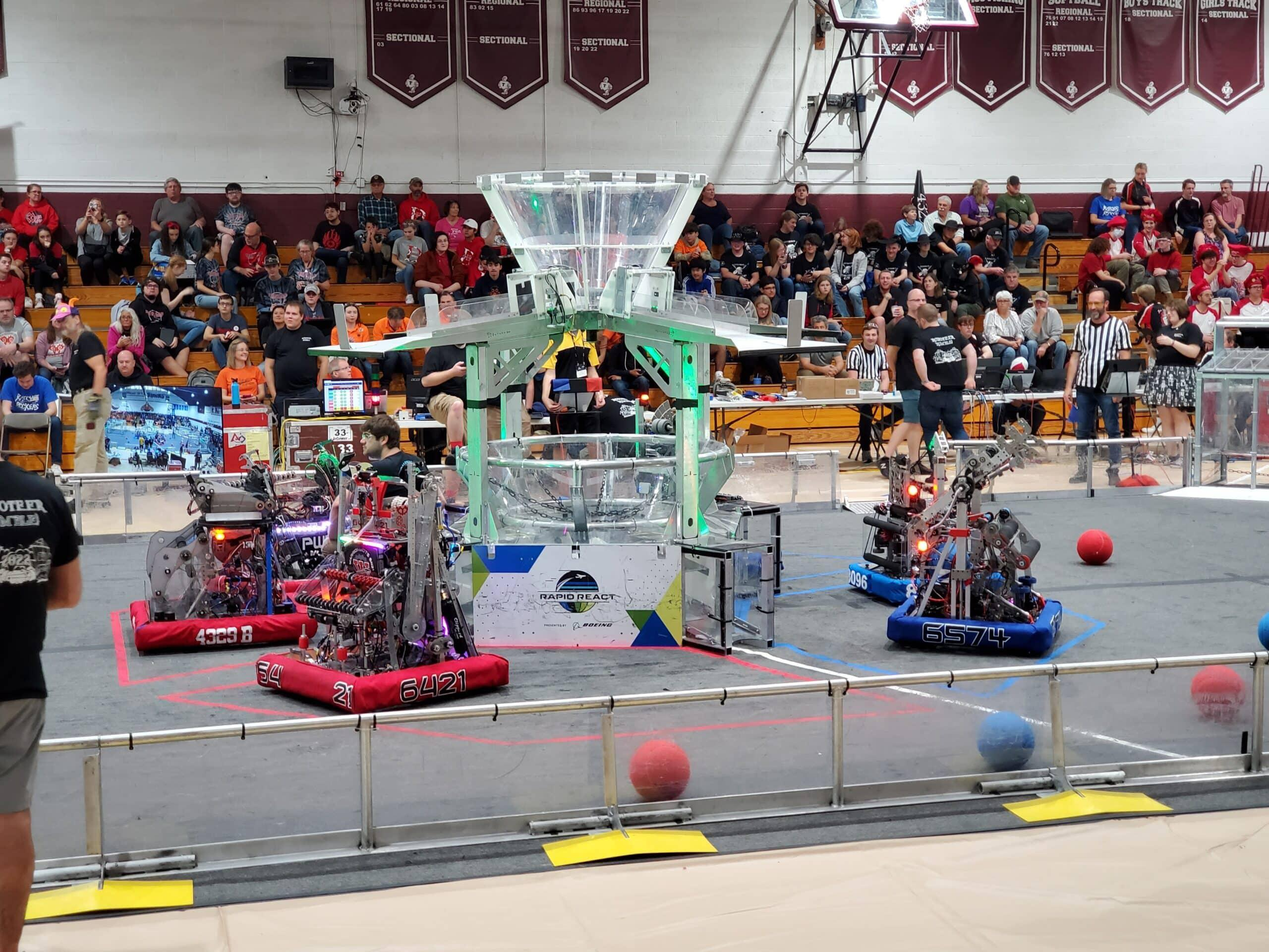robot: (254, 456, 513, 721), (882, 414, 1066, 671), (129, 443, 317, 664), (846, 420, 975, 605)
